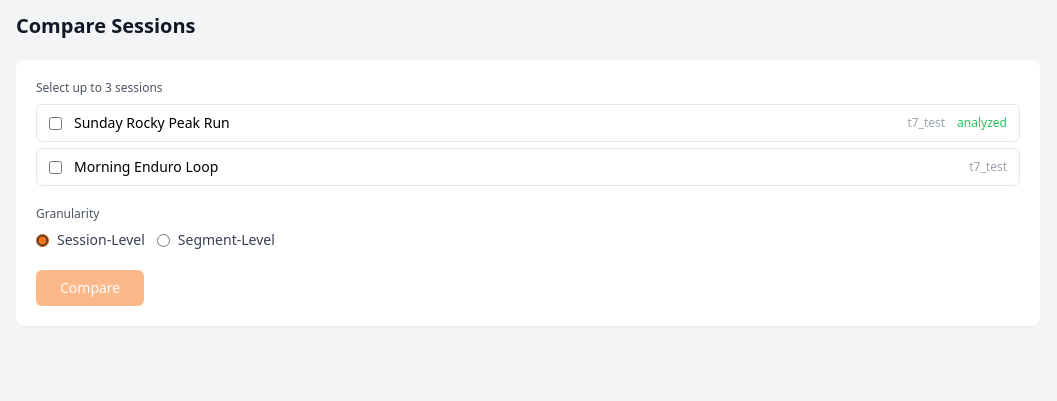
Test case: ComparePage › shows an error banner when compare fails
Click the checkbox labelled "Sunday Rocky Peak Run t7_test analyzed" at (56, 123), box x1=49 y1=116 x2=62 y2=130
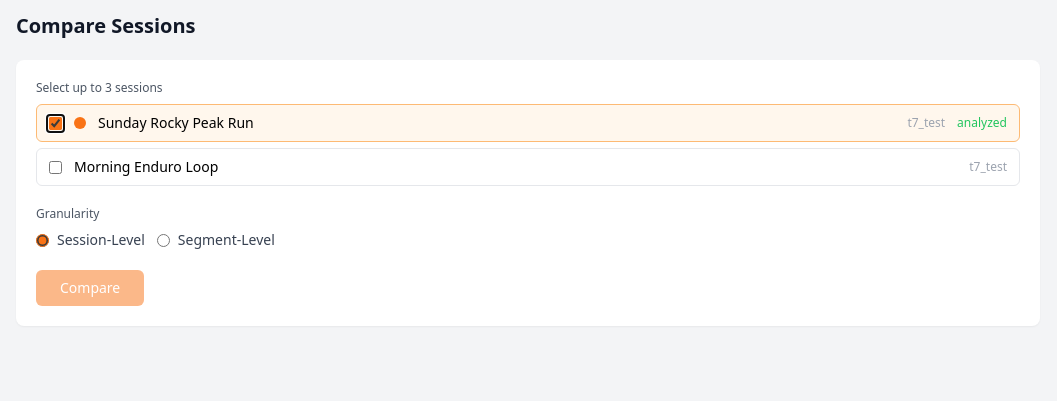
Click the checkbox labelled "Morning Enduro Loop t7_test" at (56, 167), box x1=49 y1=160 x2=62 y2=174
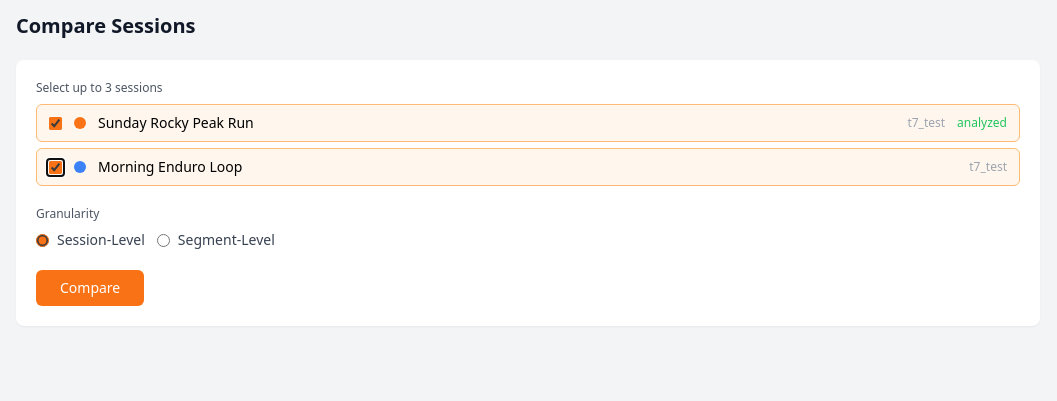
Click the button "Compare" at (90, 288), box x1=36 y1=270 x2=144 y2=306
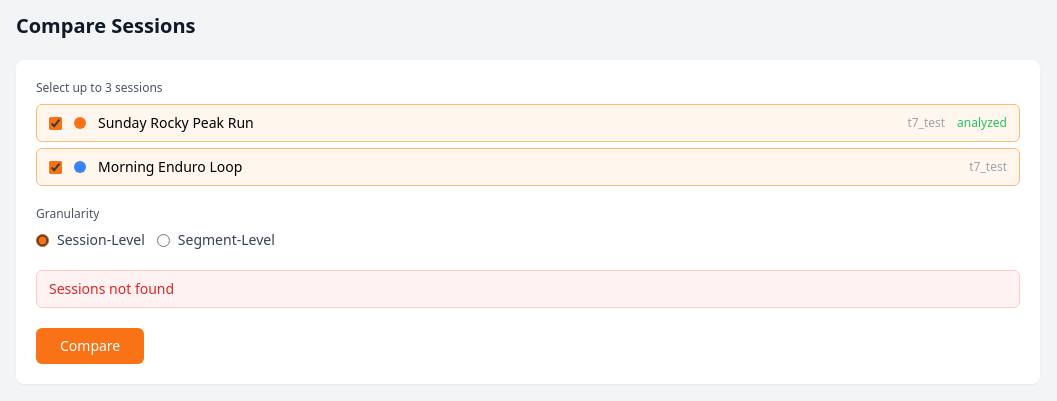
Expected: the text "Sessions not found" is shown, x1=36 y1=270 x2=1020 y2=308
